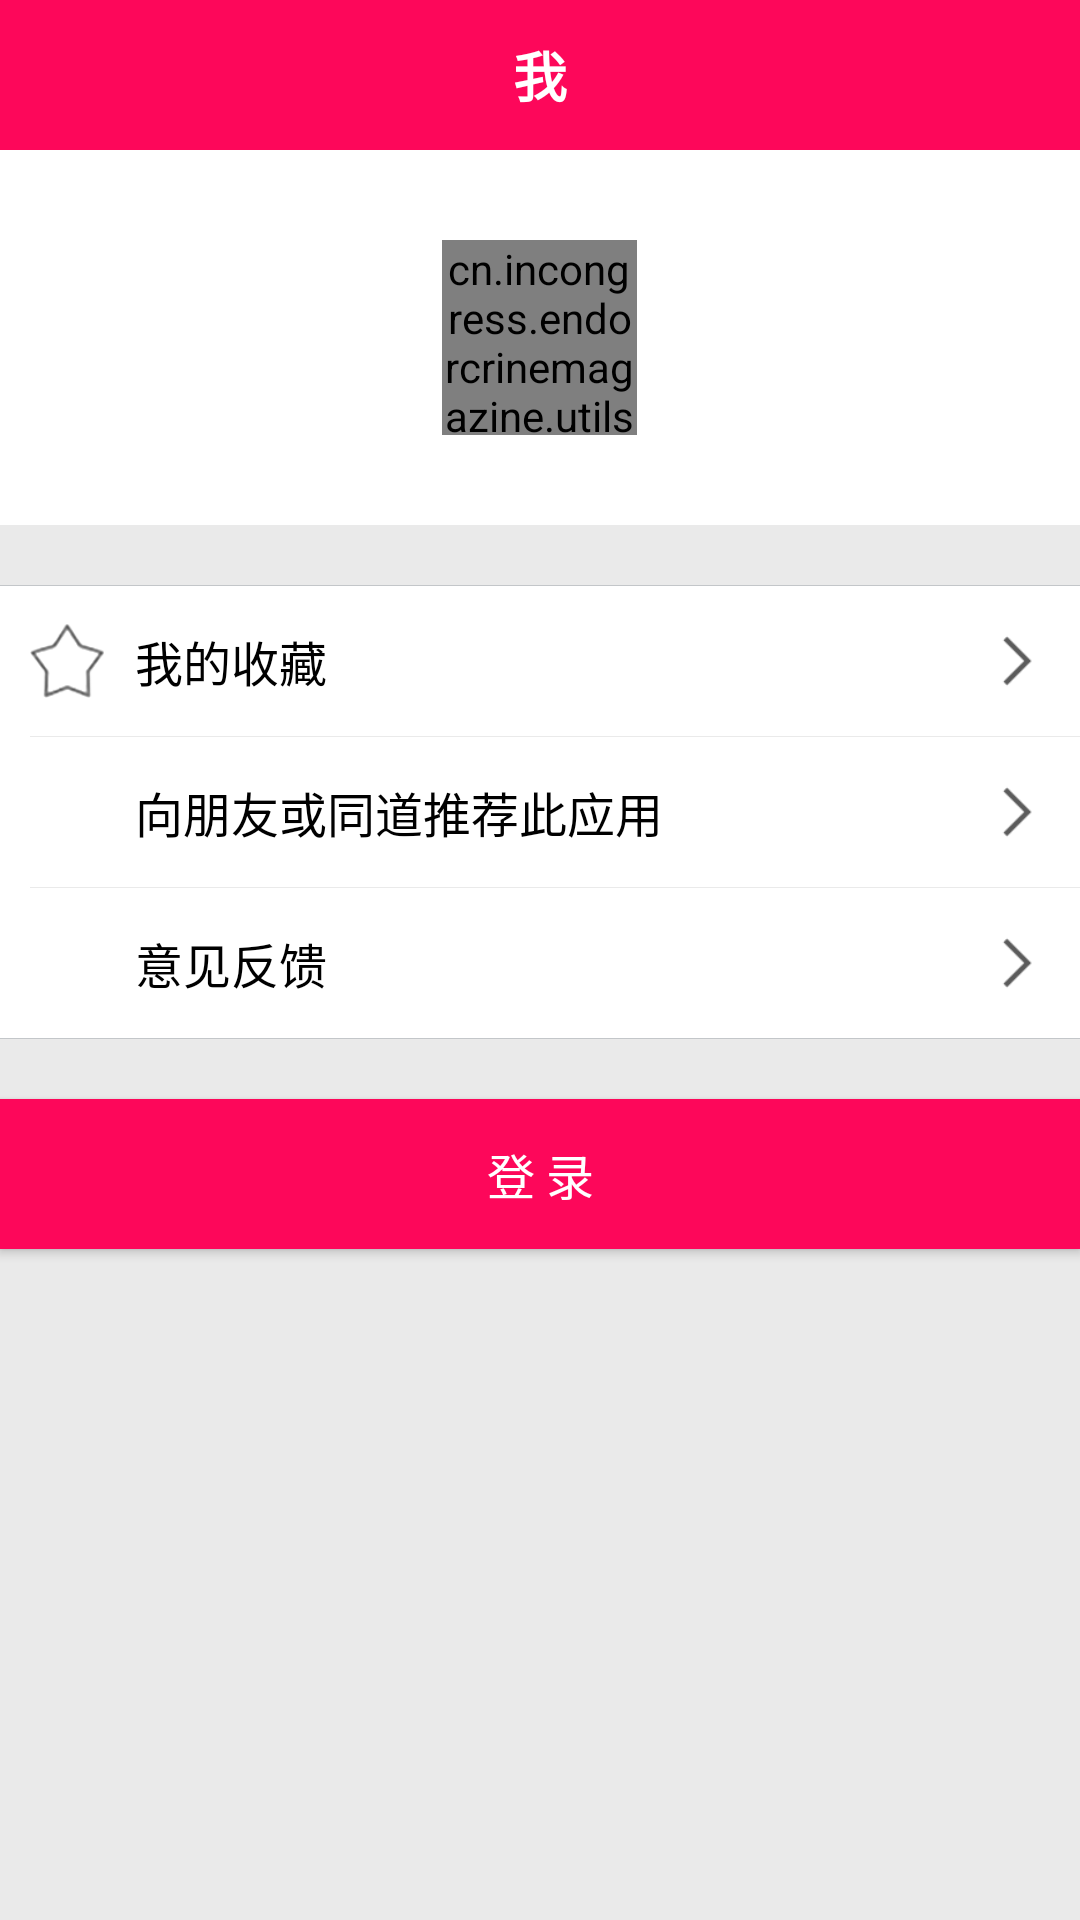

Icons on this 1080px x 1920px Android screen, each with its box as [left=x1, top=y1, right=x2, bottom=y2]:
me next: [left=1003, top=637, right=1032, bottom=685], [left=1003, top=788, right=1032, bottom=836], [left=1003, top=939, right=1032, bottom=987]
mycollection: [left=30, top=624, right=104, bottom=698]
